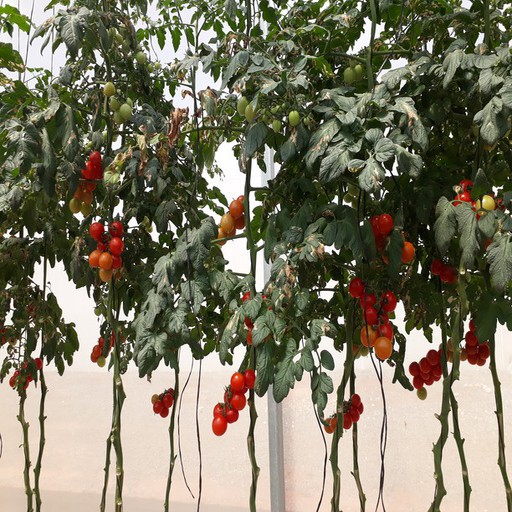green tomato bunch: (106, 29, 160, 72), (237, 97, 302, 131), (104, 82, 132, 123)
mixed tomato bunch: (214, 193, 248, 243)
red tomato bunch: (456, 181, 501, 253), (354, 280, 395, 359), (212, 369, 256, 437), (372, 216, 416, 268), (88, 221, 124, 281), (68, 152, 103, 212), (325, 394, 363, 434), (242, 293, 269, 346), (411, 347, 447, 386), (91, 326, 124, 367), (465, 316, 490, 367), (7, 358, 40, 390), (430, 260, 463, 286), (152, 386, 175, 417)
